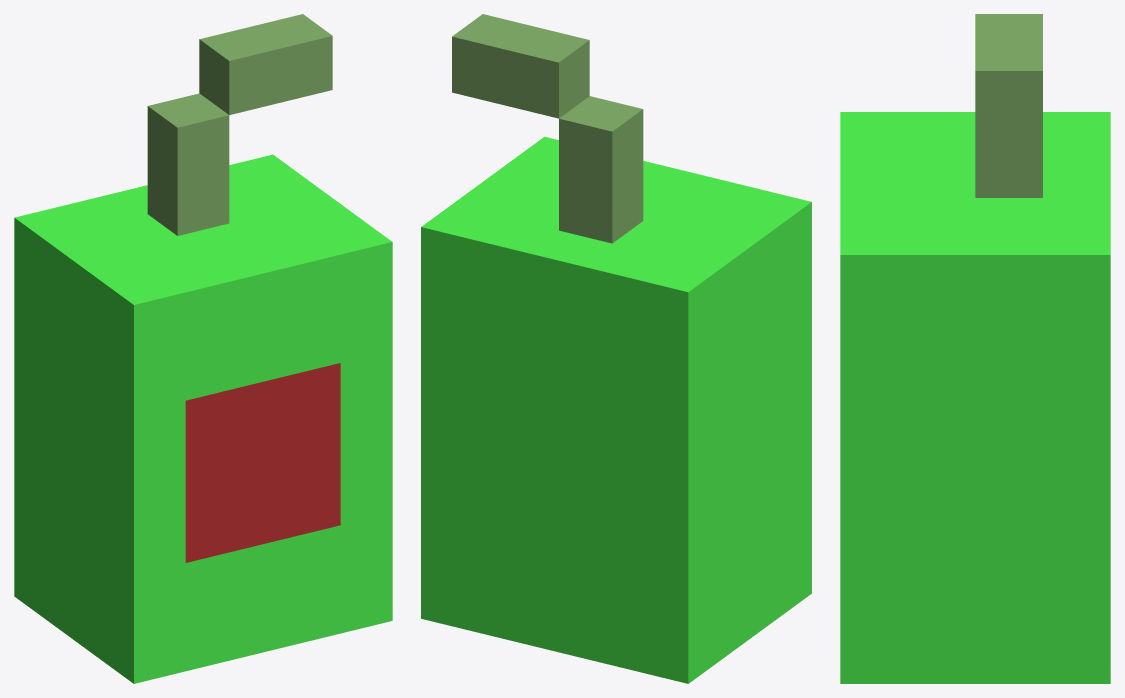
3 renders of one model, left to right at view 1: azimuth 30°, elevation 25°; view 2: azimuth 150°, elevation 25°; view 3: azimuth 270°, elevation 25°, orthographic. The views are drawn at different scales.
Visible parts, largest first — view 1: 123; view 2: 123; view 3: 123.
Part boxes in pixels (x1,y1,x2,y2): 123: (14, 14, 392, 683); 123: (421, 14, 811, 683); 123: (840, 14, 1110, 683).
Bounding box in the file's own units: 0.5 × 1 × 0.4.
Materials: 1 (1 with a texture image).
